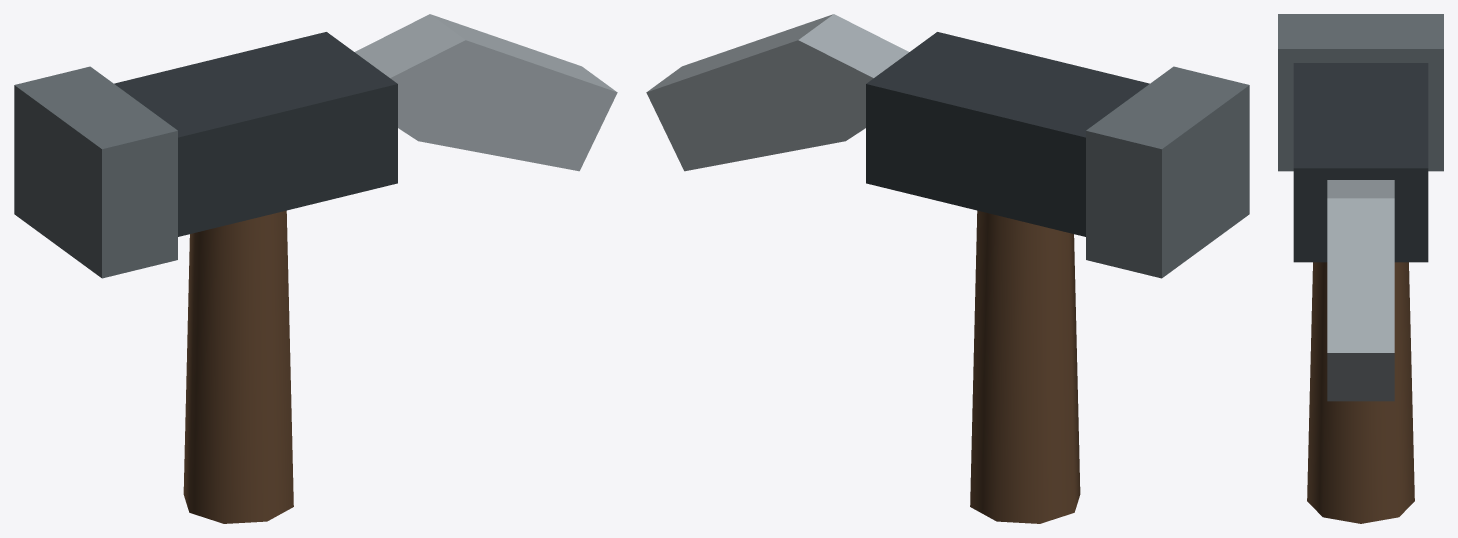
The model's file is war-pick.glb.
The picture shows the model from 3 angles, left to right: view 1: azimuth 30°, elevation 25°; view 2: azimuth 150°, elevation 25°; view 3: azimuth 270°, elevation 25°; orthographic projection. The views are drawn at different scales.
Visible parts, largest first — view 1: war-pick-head, war-pick-haft, war-pick-back, war-pick-beak; view 2: war-pick-head, war-pick-haft, war-pick-back, war-pick-beak; view 3: war-pick-head, war-pick-haft, war-pick-beak, war-pick-back.
Part boxes in pixels (left/top/right/bottom): war-pick-head: left=114, top=32, right=397, bottom=236; war-pick-haft: left=183, top=210, right=293, bottom=523; war-pick-back: left=14, top=66, right=177, bottom=278; war-pick-beak: left=355, top=14, right=617, bottom=171; war-pick-head: left=866, top=32, right=1149, bottom=236; war-pick-haft: left=970, top=210, right=1080, bottom=523; war-pick-back: left=1086, top=66, right=1249, bottom=278; war-pick-beak: left=646, top=14, right=908, bottom=171; war-pick-head: left=1293, top=63, right=1428, bottom=262; war-pick-haft: left=1307, top=262, right=1414, bottom=523; war-pick-beak: left=1327, top=180, right=1394, bottom=401; war-pick-back: left=1278, top=14, right=1443, bottom=171.
Size of the model in its own units: 0.57 by 0.43 by 0.16.
